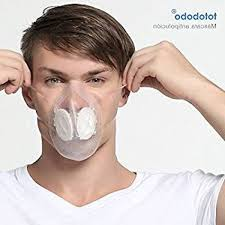mask: (0, 2, 144, 168)
